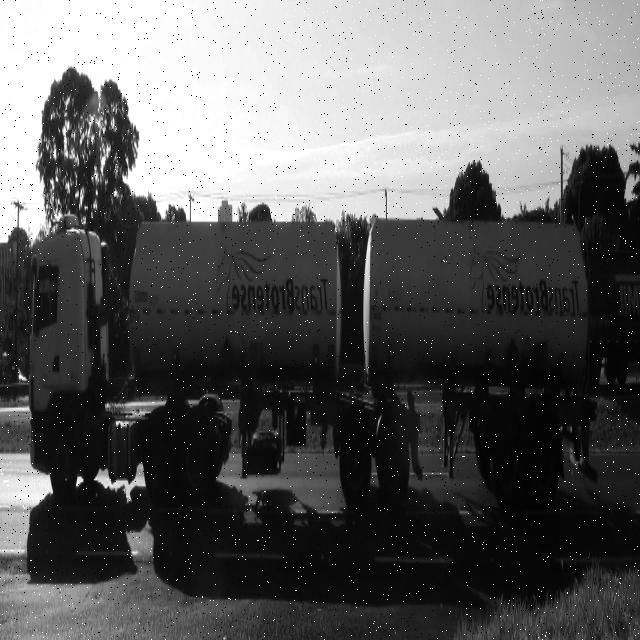-axle: (178, 412, 213, 496), (339, 416, 372, 505), (43, 424, 78, 501), (494, 415, 524, 498), (147, 415, 177, 498), (378, 419, 409, 498), (530, 421, 560, 497)
